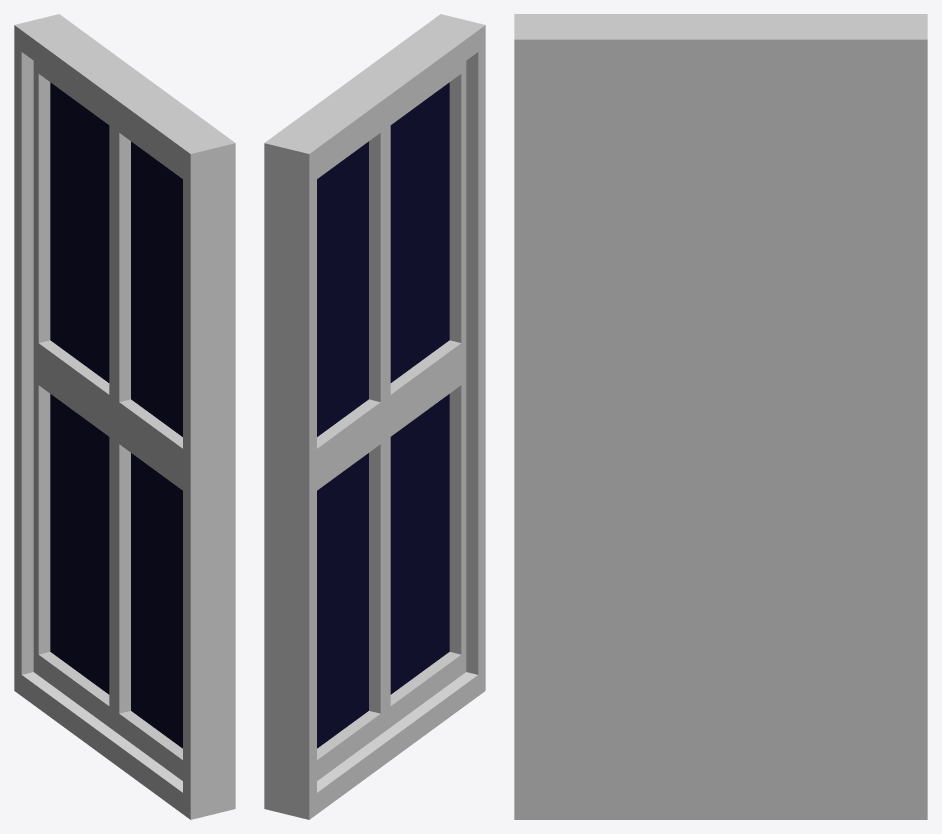
The model's file is room_window.fbx.
3 views of the same model, side by side, from view 1: azimuth 30°, elevation 25°; view 2: azimuth 150°, elevation 25°; view 3: azimuth 270°, elevation 25° (orthographic). The views are drawn at different scales.
Parts seen in each view (by area): view 1: Cube.036; view 2: Cube.036; view 3: Cube.036.
Boxes of the visible parts, bbox=[...] form: Cube.036: bbox=[14, 14, 235, 819]; Cube.036: bbox=[264, 14, 485, 819]; Cube.036: bbox=[514, 14, 927, 819].
Size of the model in its own units: 19.81 by 280 by 134.
